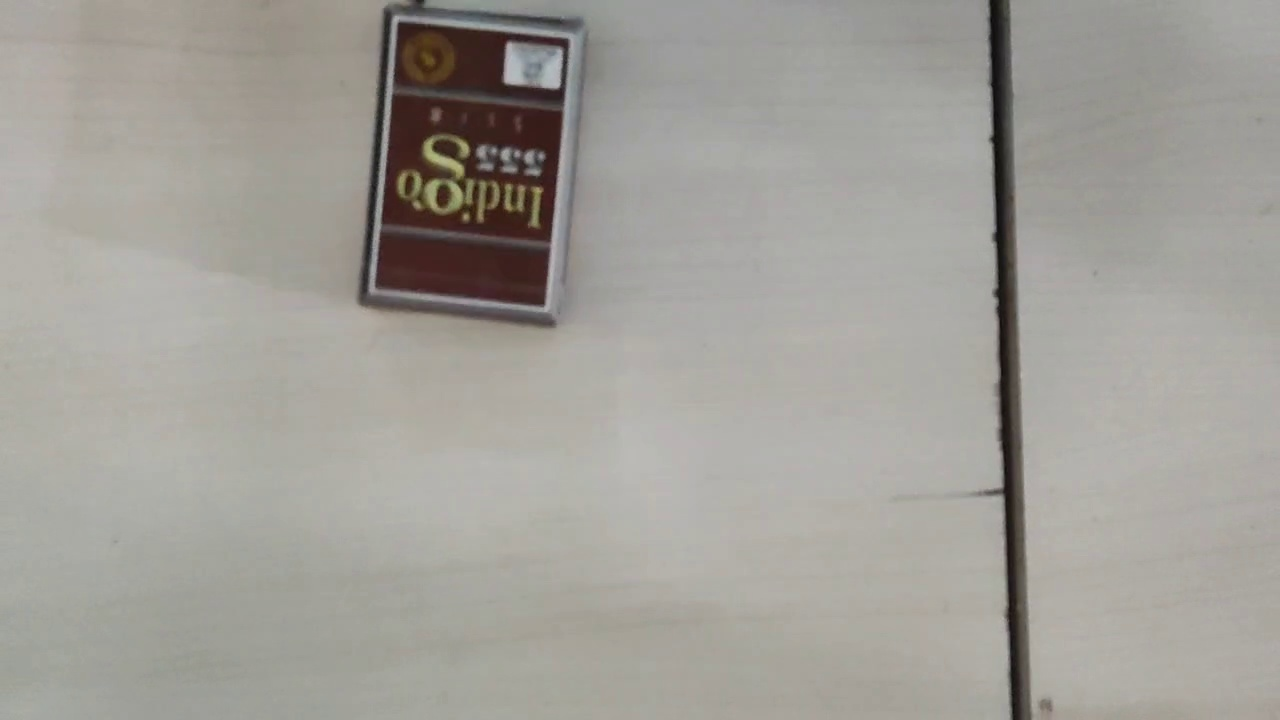BEX: (370, 18, 570, 310)
